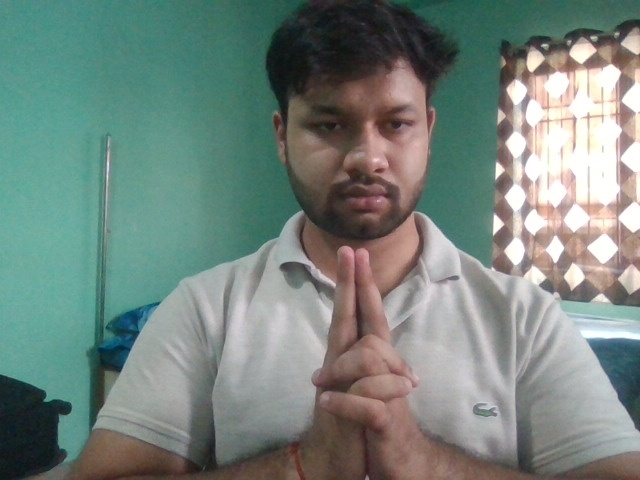1000 Years of Death: (307, 241, 430, 480)
